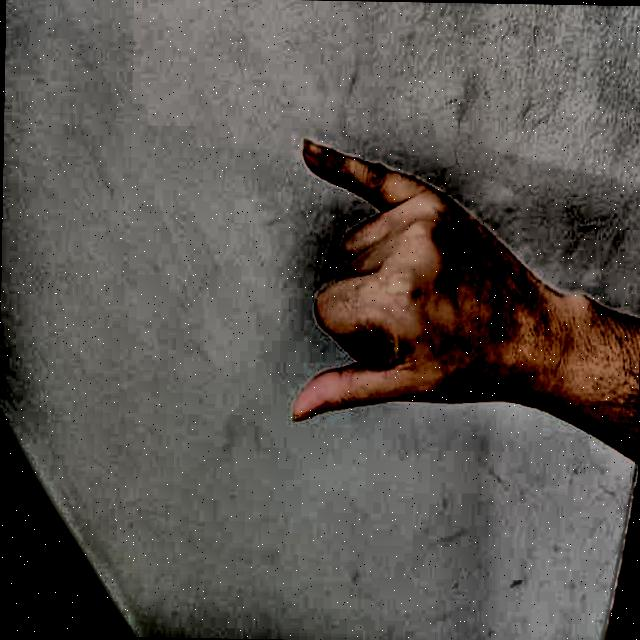Oi: (250, 108, 556, 472)
